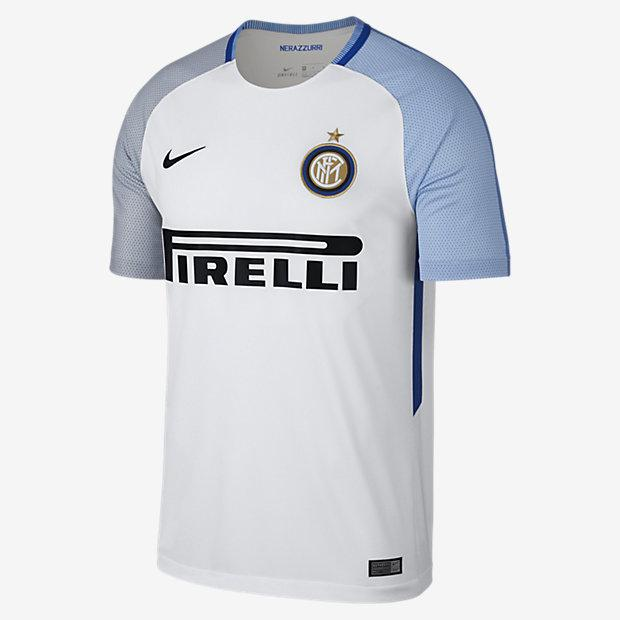teeshirt: (83, 11, 524, 620)
